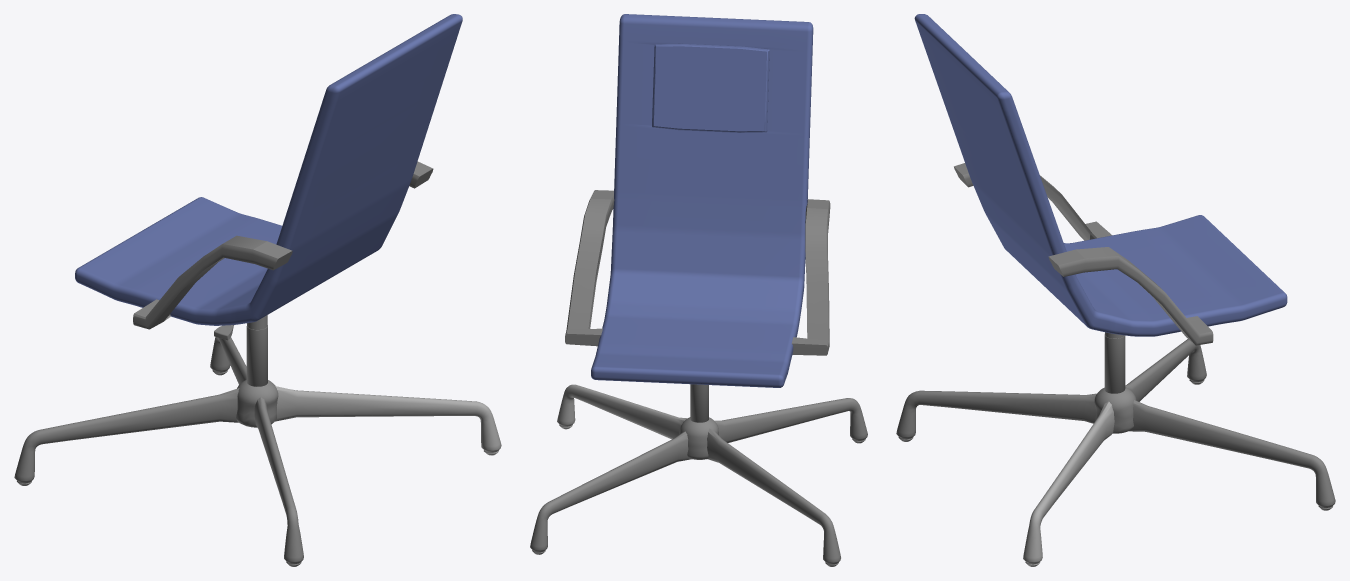
Rendered from chair_1 1.fbx.
The picture shows the model from 3 angles, left to right: view 1: azimuth 30°, elevation 25°; view 2: azimuth 150°, elevation 25°; view 3: azimuth 270°, elevation 25°; orthographic projection. The views are drawn at different scales.
Parts seen in each view (by area): view 1: sketchfab_render:Chair1; view 2: sketchfab_render:Chair1; view 3: sketchfab_render:Chair1.
Part boxes in pixels (<box>): sketchfab_render:Chair1: <box>14,14,501,566</box>; sketchfab_render:Chair1: <box>530,14,867,566</box>; sketchfab_render:Chair1: <box>896,14,1335,566</box>.
Bounding box in the file's own units: 1074 × 1192 × 1052.
